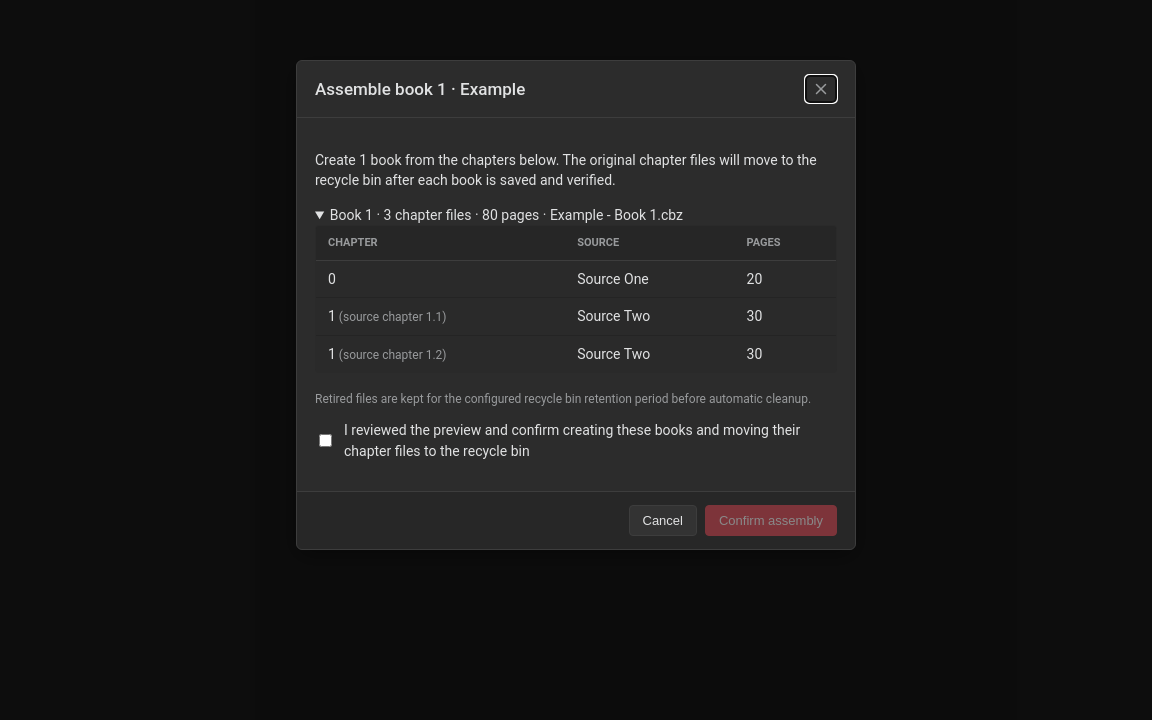
previews ordered chapters, split parts, pages and filename before explicit confirmation
Expected: the heading "Book 1 · 3 chapter files · 80 pages · Example - Book 1.cbz" is shown, [330,207,683,223]
Expected: the text "(source chapter 1.1)" is shown, [336,310,446,324]
Click the checkbox named "I reviewed the preview and confirm creating these books and moving their chapter files to the recycle bin" at (326, 441), box [319,434,332,447]
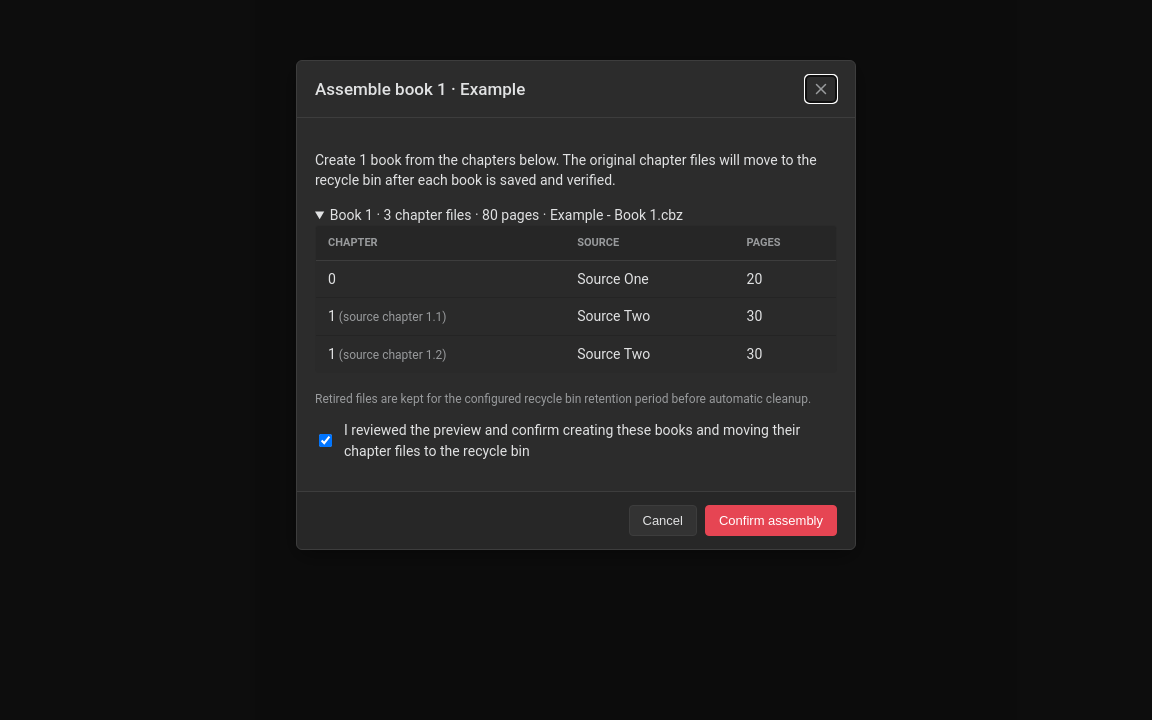
Click the button "Confirm assembly" at (771, 520), box [705,505,837,536]
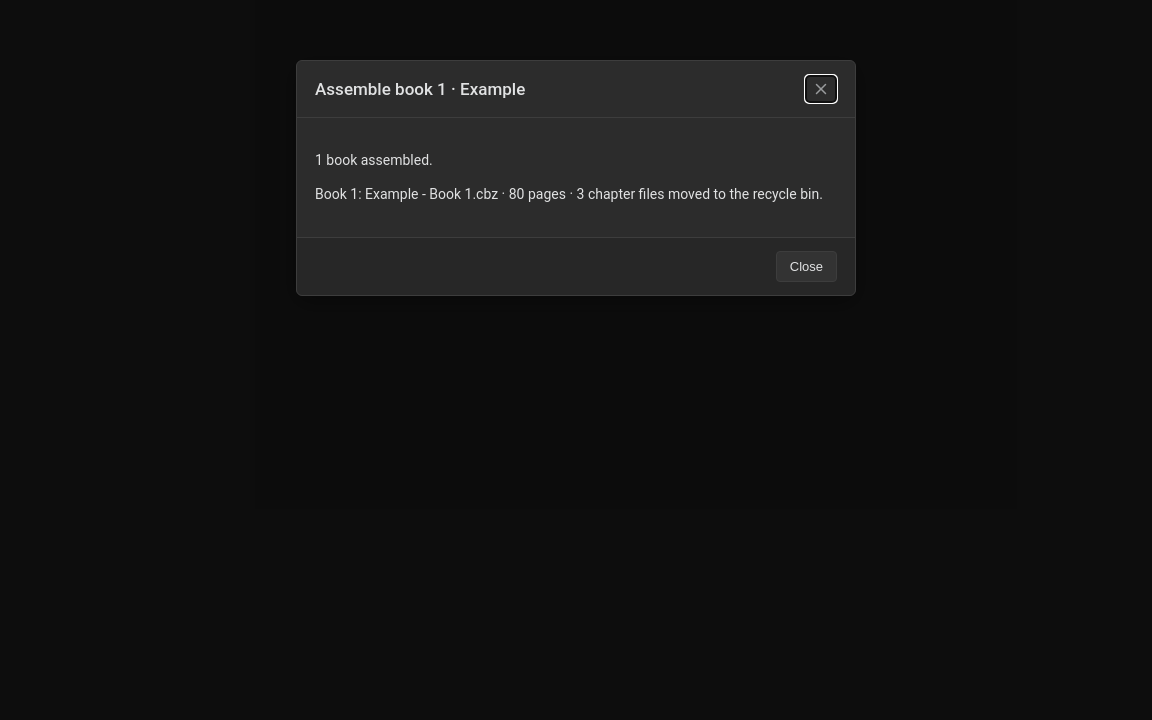
Now the text "1 book assembled." is shown, box [315,152,433,168]
Now the text "3 chapter files moved to the recycle bin" is shown, box [315,186,823,202]
Now the button "Confirm assembly" is gone
